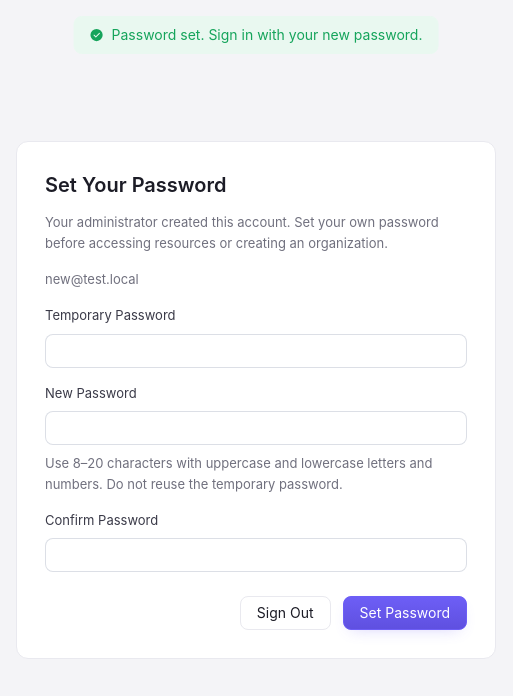
Test case: First password setup › keeps setup open when the backend rejects the password
In the password field with id "setup-current": (256, 351) [56,334,456,368], type "TemporaryA9!"
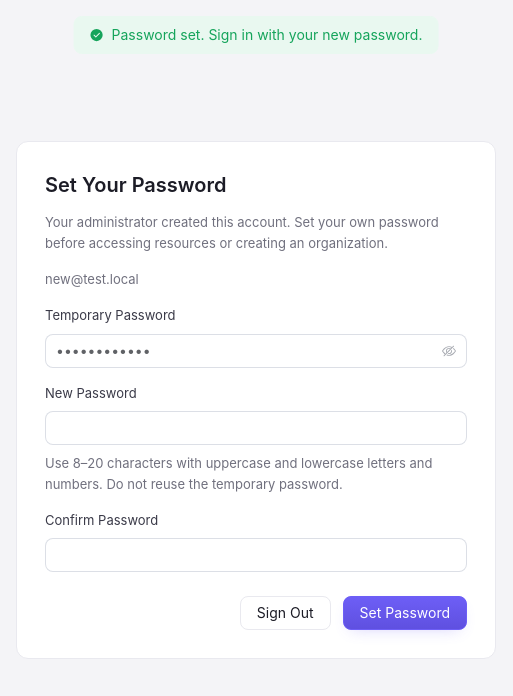
In the password field with id "setup-password": (256, 428) [56,411,456,445], type "PersonalA9!"
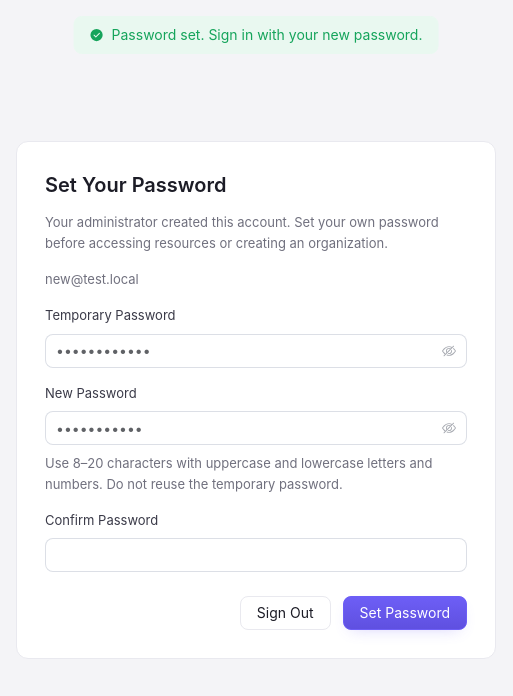
In the password field with id "setup-confirm": (256, 555) [56,538,456,572], type "PersonalA9!"
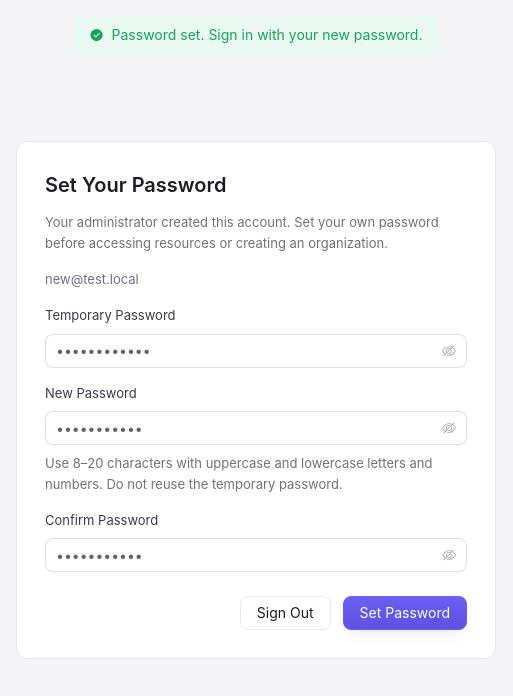
Submit the form, box [45,306,467,630]
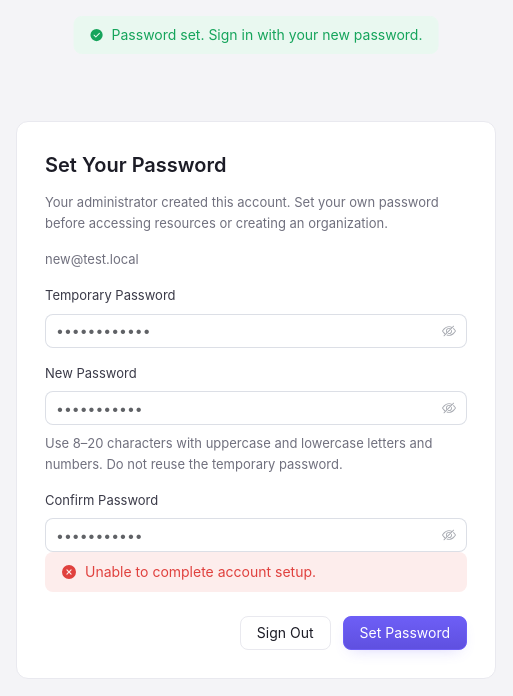
Result: the message "Unable to complete account setup." is shown at [45,552,467,592]
